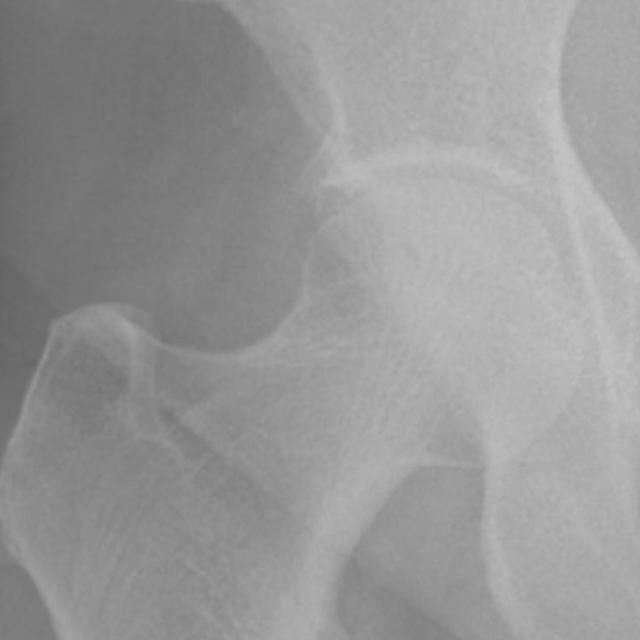Fitted_femural_head: (300, 177, 432, 300)
